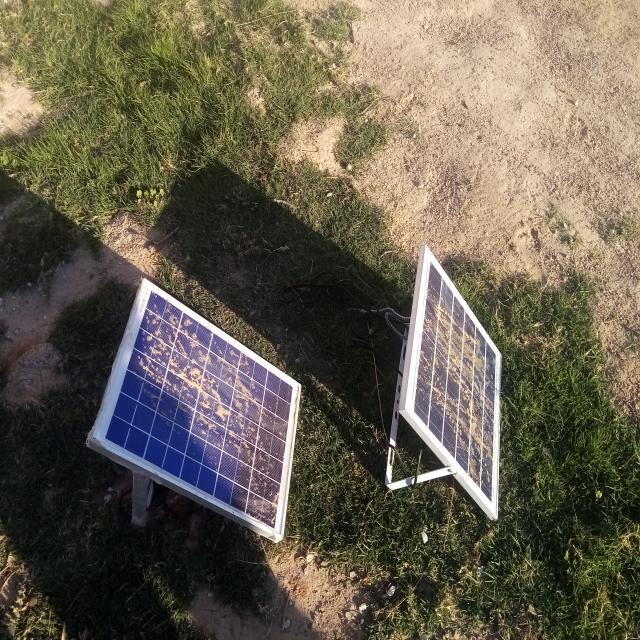faulty: (91, 279, 301, 539), (405, 245, 502, 517)
